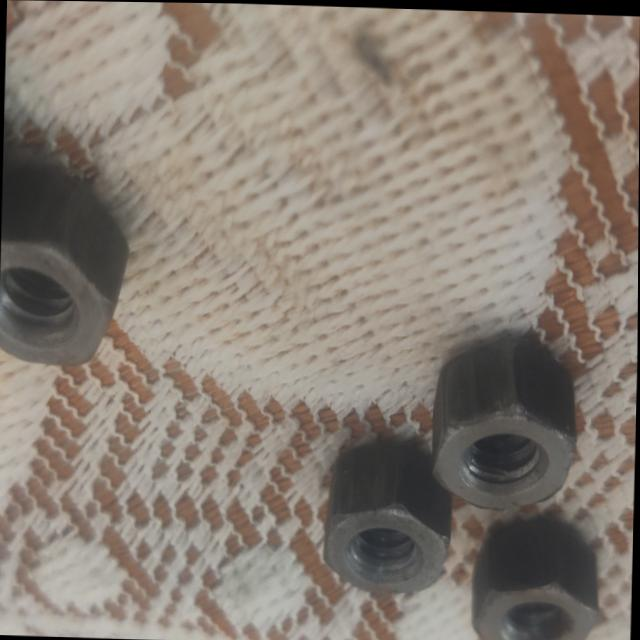disinfected nut: (0, 168, 127, 363), (432, 336, 576, 506), (325, 439, 454, 590), (323, 439, 428, 589), (471, 517, 599, 640)
